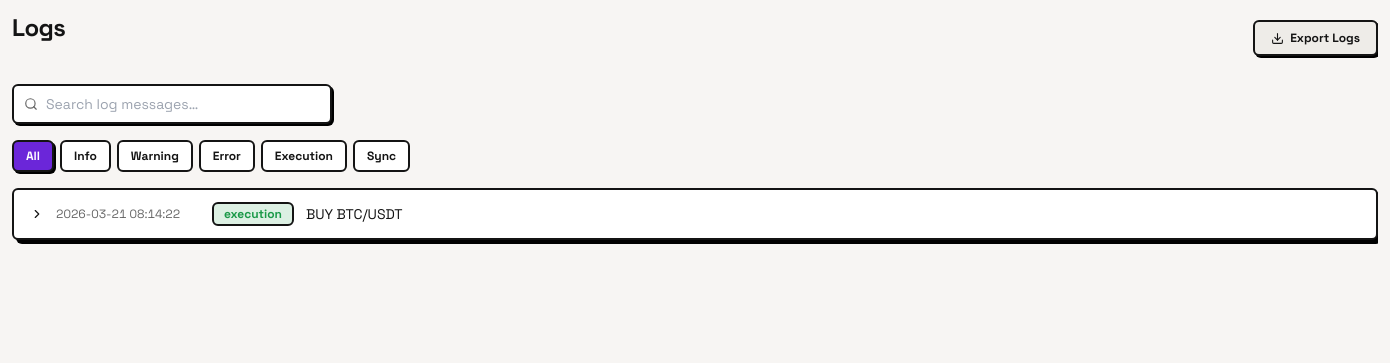
Test: LogsPage › data rendered state › expands log details when clicked
The width and height of the screenshot is (1390, 363).
Step 1. Click the button "2026-03-21 08:14:22 execution BUY BTC/USDT" → (118, 214), box [14,190,1376,238]
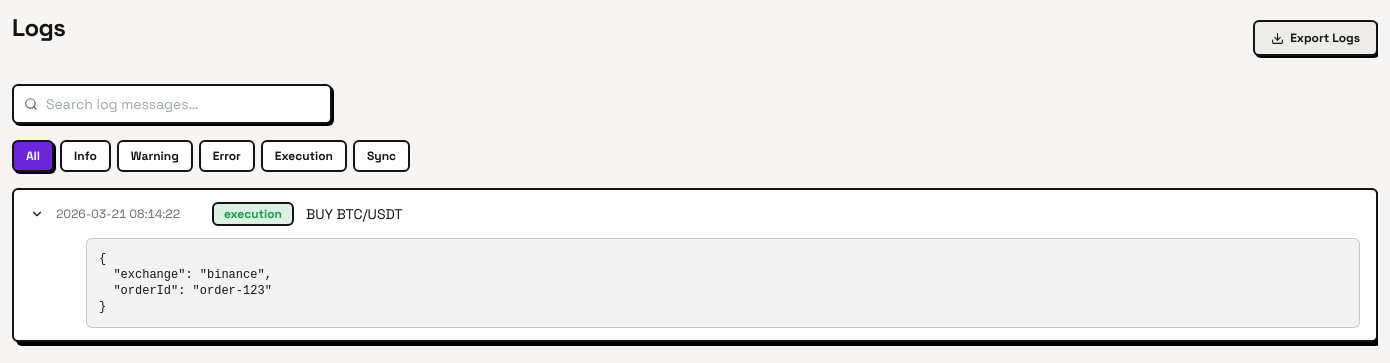
Result: the text "{ \"exchange\": \"binance\", \"orderId\": \"order-123\" }" is shown at [86,238,1360,328]
